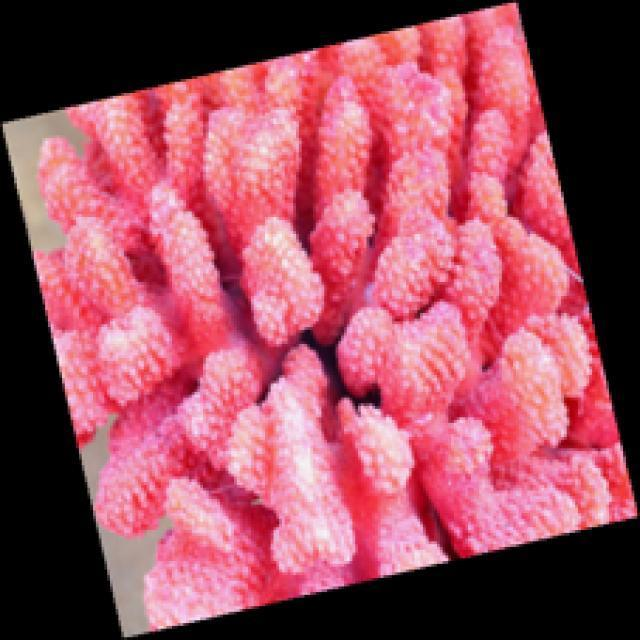Healthy: (33, 1, 640, 632)
